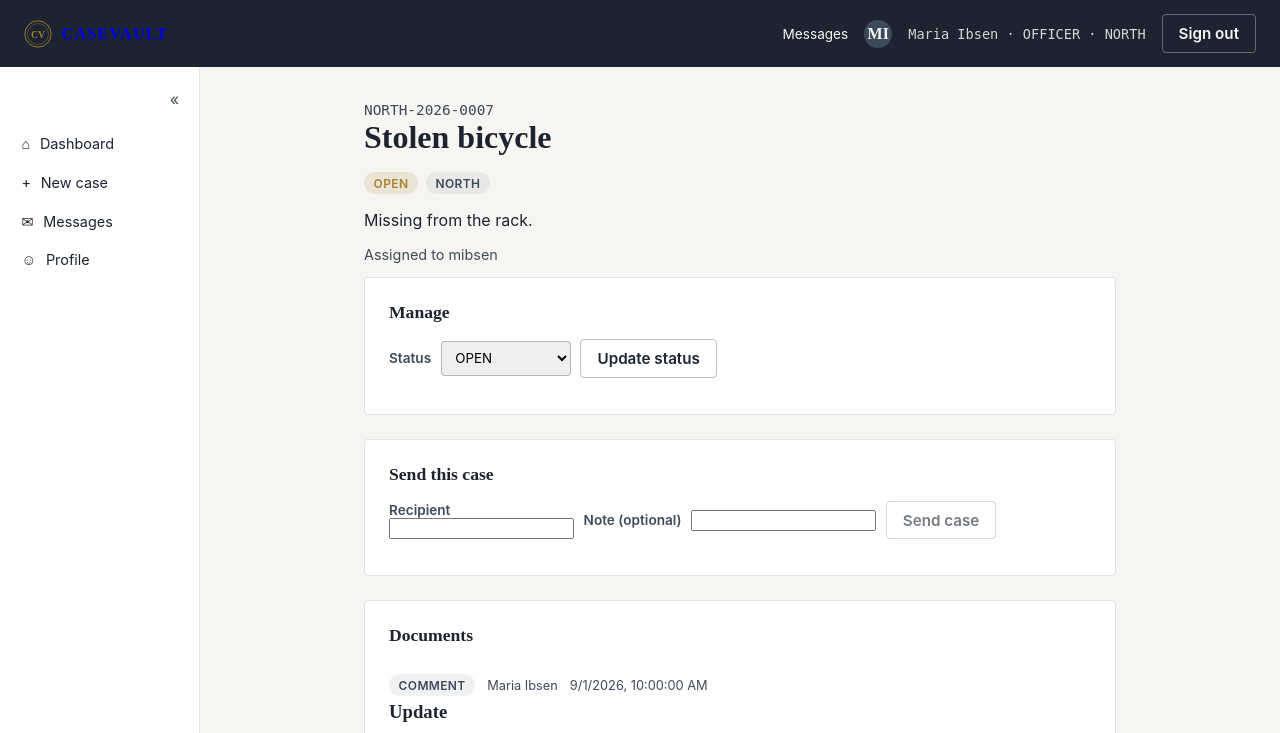
Test case: CaseDetailPage › sends this case to a colleague via message
Expected: the heading "Stolen bicycle" is shown, [364,119,552,155]
Type "ola" into the field labelled "Recipient".
click(482, 528); type("ola")  # box [389,518,574,538]
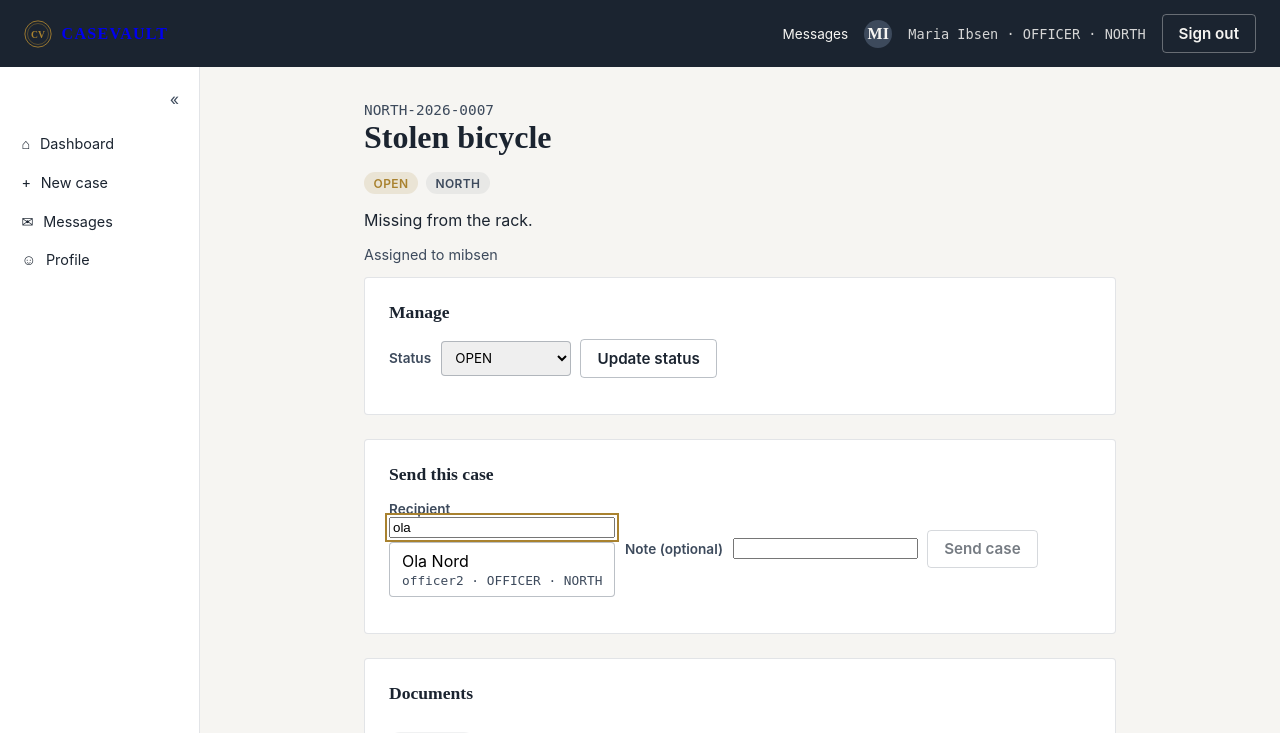
Click the text "Ola Nord".
click(435, 561)  # box [402,551,469,571]
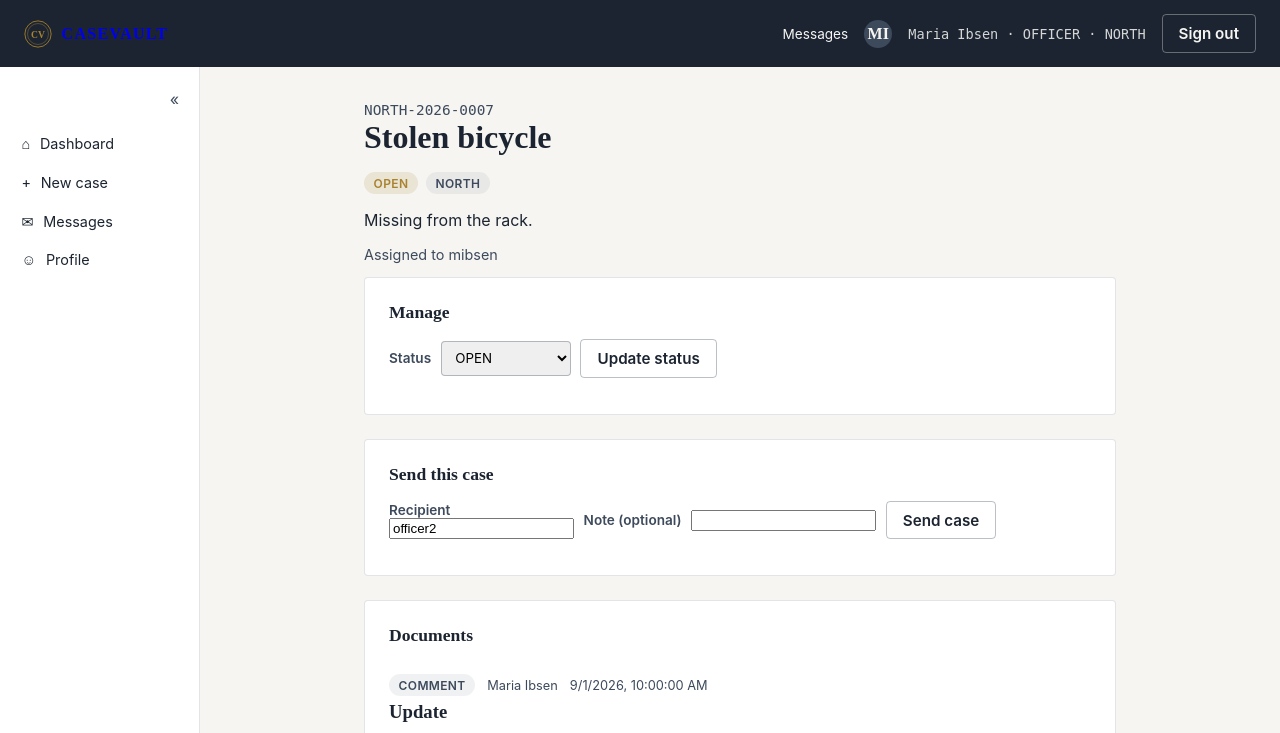
Click the button "Send case".
click(941, 520)  # box [886,501,996,539]
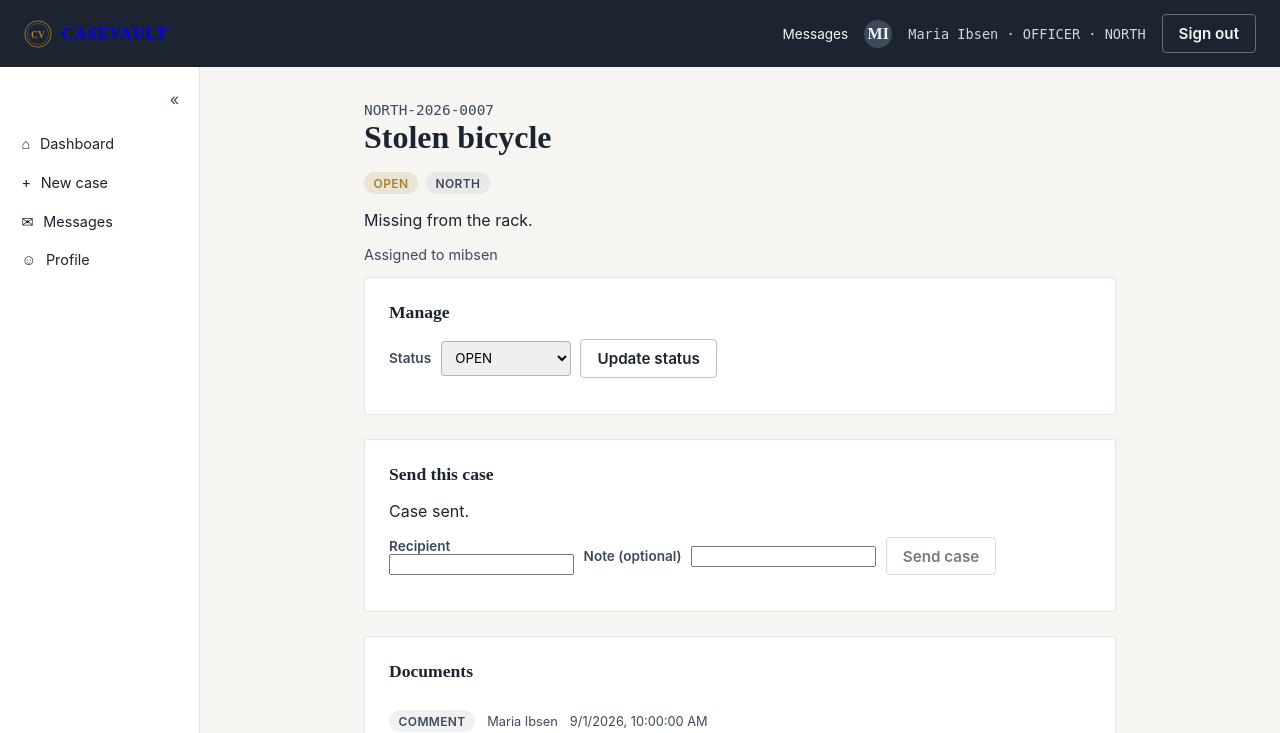
Expected: the text "Case sent." is shown, [389,501,469,521]
